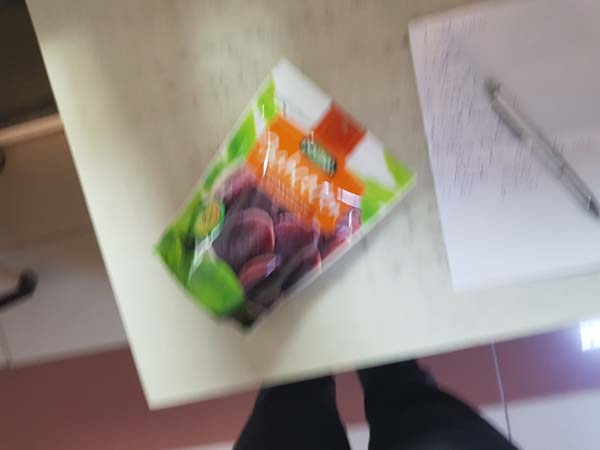bahcedengunkurusu: (155, 54, 418, 339)
